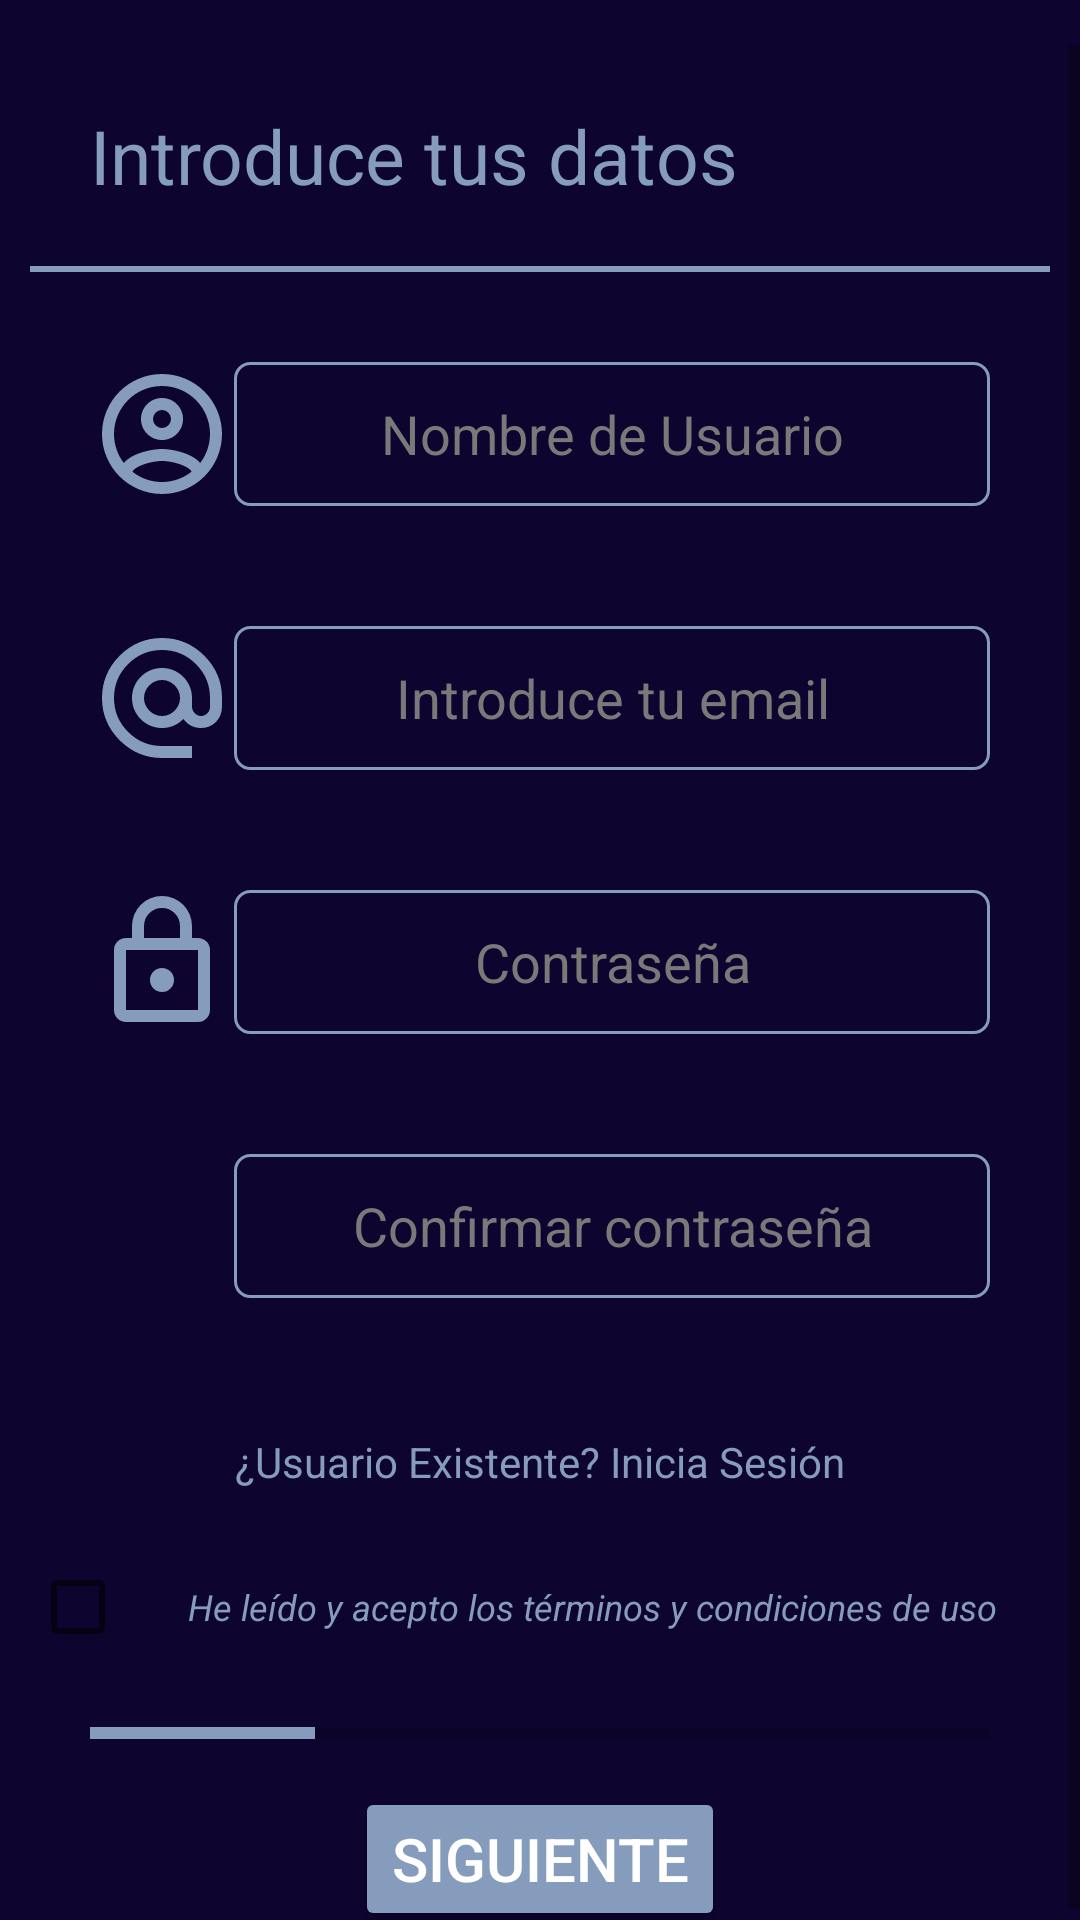

Icon click points for this 1080x1920 phone screenshot, format point (x, y):
vectoraccount: point (162, 434)
vectoremail: point (162, 698)
vectorpassword: point (162, 959)
